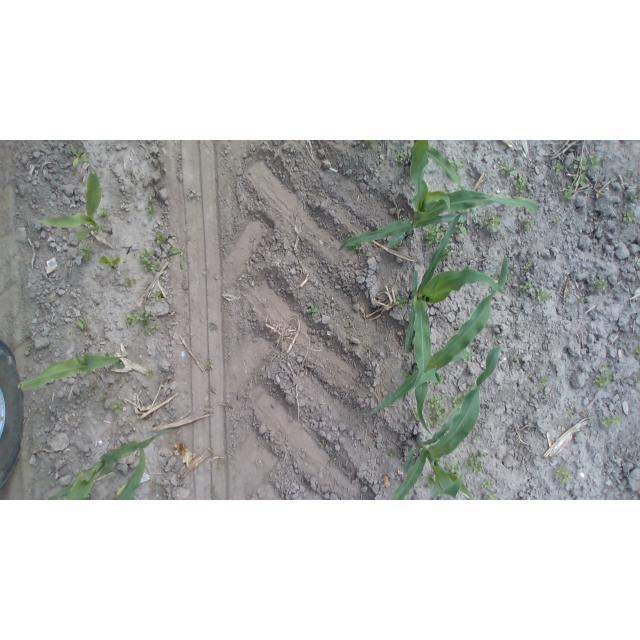Maize: (356, 254, 512, 422), (343, 140, 543, 250), (383, 344, 505, 501), (401, 212, 503, 393), (38, 429, 175, 500), (36, 169, 115, 245), (16, 353, 129, 392)
Weeds: (571, 154, 602, 192), (125, 308, 159, 336), (520, 281, 552, 304), (426, 396, 447, 430), (166, 244, 190, 268), (70, 148, 93, 169), (140, 250, 161, 272), (593, 365, 613, 388), (478, 479, 499, 500), (592, 276, 614, 296), (421, 225, 443, 244), (556, 463, 574, 485), (484, 214, 502, 235), (513, 174, 528, 199), (100, 255, 124, 270), (600, 413, 622, 429), (141, 197, 155, 221), (464, 456, 484, 472), (500, 161, 516, 180), (392, 294, 409, 310), (449, 394, 465, 411), (80, 244, 95, 261), (75, 317, 90, 333), (154, 232, 170, 247), (394, 151, 411, 165), (421, 474, 438, 488), (562, 187, 576, 203), (522, 215, 536, 230), (453, 157, 468, 170), (110, 400, 123, 415), (412, 410, 428, 422), (621, 209, 635, 222), (449, 461, 463, 474), (207, 318, 219, 333), (122, 276, 137, 288), (206, 489, 222, 500), (536, 376, 550, 388), (551, 163, 566, 174), (305, 304, 317, 317), (441, 249, 453, 261), (203, 360, 215, 372), (153, 290, 165, 302), (97, 206, 108, 219), (184, 189, 194, 203), (346, 319, 357, 331), (215, 459, 226, 470), (349, 246, 364, 254), (510, 350, 520, 362), (144, 369, 158, 377), (551, 218, 564, 226), (628, 193, 637, 203), (522, 263, 531, 271), (635, 347, 640, 357)
